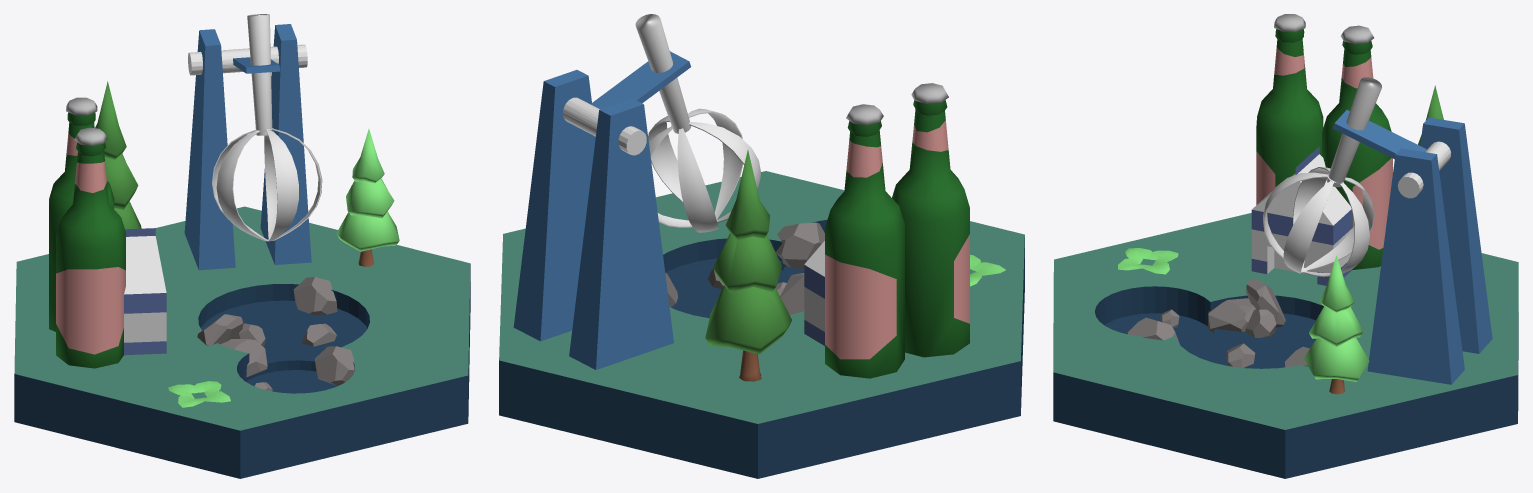
Rendered from Macro - Mineral lvl 3 rev.fbx.
3 views of the same model, side by side, from view 1: azimuth 30°, elevation 25°; view 2: azimuth 150°, elevation 25°; view 3: azimuth 270°, elevation 25° (orthographic). The views are drawn at different scales.
Parts seen in each view (by area): view 1: Cylinder.020, drink_003.001, Cube.010, Cube.011, Circle, milkbox2.002, Tree_Spruce_tiny_01.004, drink_003, Tree_Spruce_tiny_01.003, Cylinder.001, Rock Type2 02 mesh.002, Rock Type2 04 mesh.004 (+5 smaller); view 2: Cylinder.020, Cube.010, drink_003, drink_003.001, Cube.011, Tree_Spruce_tiny_01.003, Circle, Cylinder.001, Cube, milkbox2.002, Rock Type2 04 mesh.006, Cylinder.034 (+2 smaller); view 3: Cylinder.020, Cube.011, drink_003.001, Cube.010, drink_003, Circle, milkbox2.002, Tree_Spruce_tiny_01.004, Rock Type2 02 mesh.002, Cylinder.001, Cube, Plane.002 (+3 smaller).
Boxes of the visible parts, left/top/right/bottom form: Cylinder.020: left=14, top=206, right=470, bottom=478; drink_003.001: left=56, top=127, right=125, bottom=368; Cube.010: left=184, top=29, right=235, bottom=270; Cube.011: left=260, top=24, right=311, bottom=264; Circle: left=212, top=128, right=322, bottom=241; milkbox2.002: left=124, top=228, right=166, bottom=355; Tree_Spruce_tiny_01.004: left=336, top=129, right=399, bottom=266; drink_003: left=49, top=97, right=114, bottom=331; Tree_Spruce_tiny_01.003: left=95, top=81, right=141, bottom=229; Cylinder.001: left=247, top=14, right=272, bottom=135; Rock Type2 02 mesh.002: left=197, top=314, right=267, bottom=377; Rock Type2 04 mesh.004: left=293, top=277, right=337, bottom=314; Cylinder.020: left=499, top=171, right=1024, bottom=478; Cube.010: left=569, top=98, right=673, bottom=369; drink_003: left=825, top=104, right=904, bottom=378; drink_003.001: left=892, top=83, right=969, bottom=357; Cube.011: left=513, top=70, right=595, bottom=341; Tree_Spruce_tiny_01.003: left=705, top=150, right=791, bottom=381; Circle: left=648, top=108, right=761, bottom=232; Cylinder.001: left=635, top=14, right=691, bottom=133; Cube: left=590, top=51, right=690, bottom=109; milkbox2.002: left=804, top=241, right=824, bottom=345; Rock Type2 04 mesh.006: left=775, top=222, right=824, bottom=268; Cylinder.034: left=563, top=97, right=646, bottom=155; Cylinder.020: left=1053, top=213, right=1518, bottom=478; Cube.011: left=1367, top=148, right=1464, bottom=384; drink_003.001: left=1256, top=14, right=1323, bottom=204; Cube.010: left=1420, top=117, right=1492, bottom=353; drink_003: left=1322, top=25, right=1392, bottom=269; Circle: left=1263, top=167, right=1374, bottom=277; milkbox2.002: left=1251, top=146, right=1352, bottom=285; Tree_Spruce_tiny_01.004: left=1303, top=255, right=1369, bottom=394; Rock Type2 02 mesh.002: left=1207, top=278, right=1285, bottom=337; Cylinder.001: left=1327, top=77, right=1381, bottom=187; Cube: left=1332, top=110, right=1426, bottom=158; Plane.002: left=1118, top=248, right=1178, bottom=274.
Size of the model in its own units: 197 by 128 by 172.
